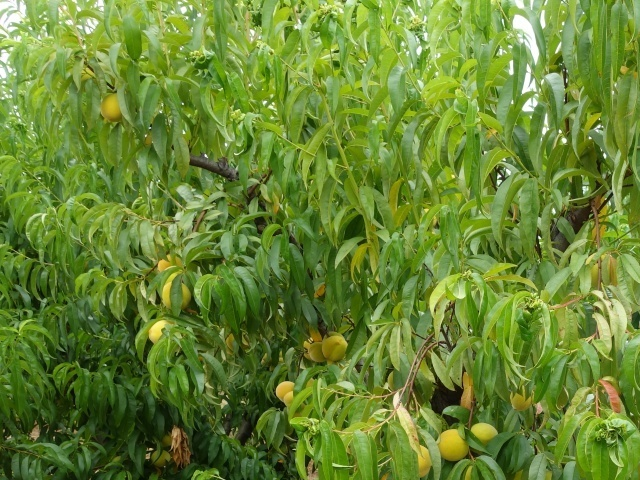peach: (434, 426, 473, 466), (159, 280, 193, 314), (467, 417, 504, 448), (319, 334, 350, 366), (96, 91, 125, 125), (507, 385, 536, 414), (145, 317, 175, 344), (155, 252, 185, 278), (304, 340, 328, 364), (272, 376, 296, 400), (150, 445, 172, 470), (281, 388, 302, 410)
